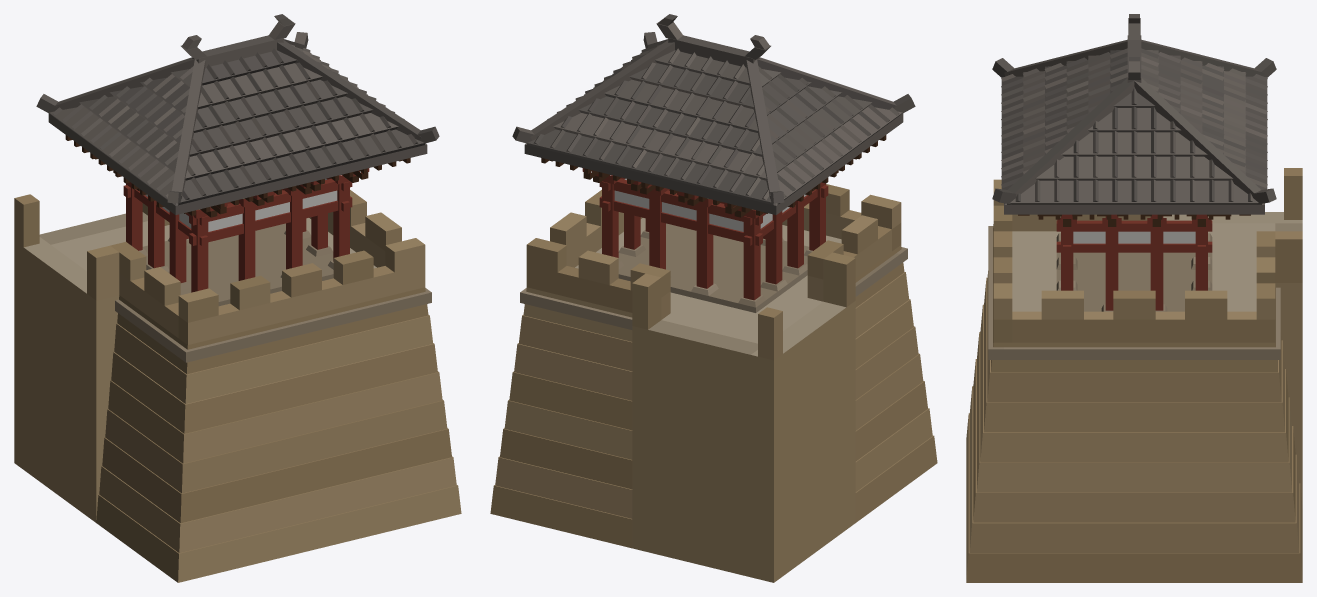
Rendered from wall-corner-tower.glb.
The picture shows the model from 3 angles, left to right: view 1: azimuth 30°, elevation 25°; view 2: azimuth 150°, elevation 25°; view 3: azimuth 270°, elevation 25°; orthographic projection. The views are drawn at different scales.
Parts seen in each view (by area): view 1: tower-static; view 2: tower-static; view 3: tower-static.
Part boxes in pixels (bbox=[...]): tower-static: bbox=[14, 14, 461, 582]; tower-static: bbox=[490, 14, 937, 582]; tower-static: bbox=[966, 14, 1302, 582].
Size of the model in its own units: 8 by 12.44 by 8.
